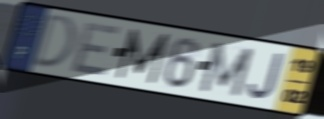6: (163, 36, 202, 90)
D: (29, 12, 78, 71)
E: (68, 21, 123, 79)
J: (246, 51, 286, 102)
M: (197, 40, 257, 99), (114, 26, 172, 86)
